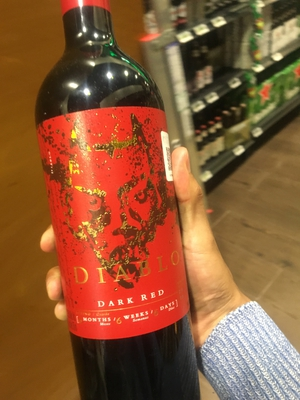diablo dark red: (22, 1, 203, 373)
